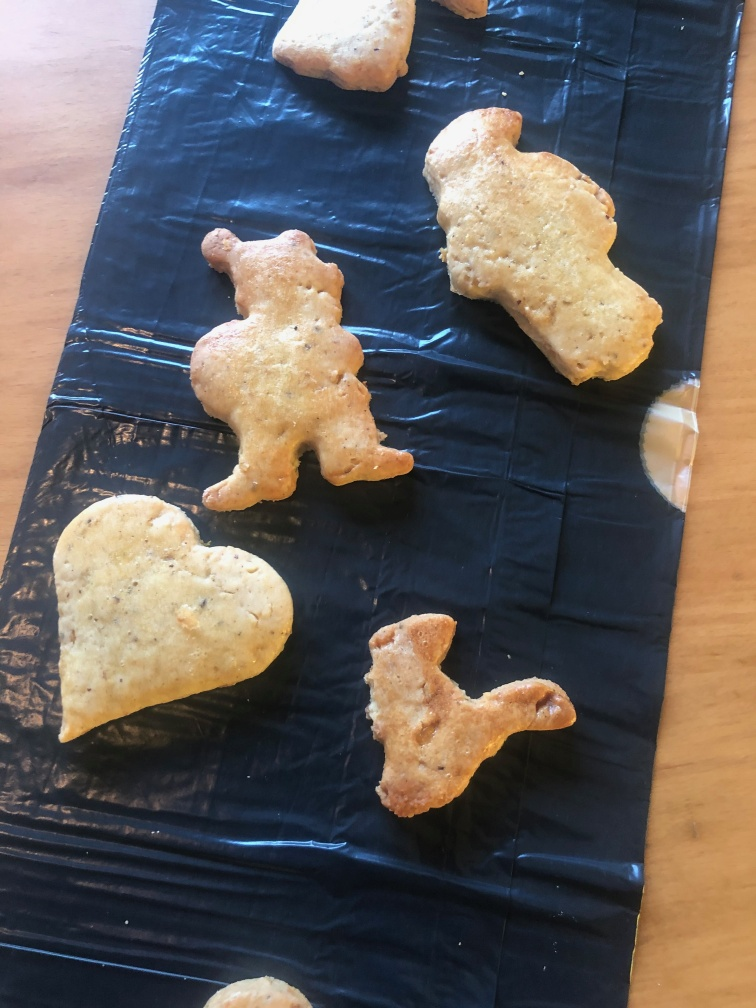heart: (40, 492, 292, 743)
king mage: (419, 103, 669, 383)
santa claus: (184, 220, 417, 510)
squirrel: (365, 610, 574, 820)
